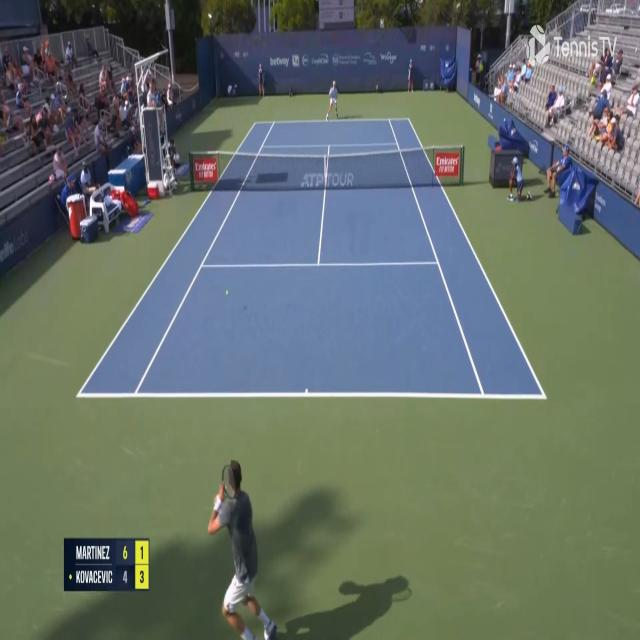tennis-player: (207, 454, 280, 639), (325, 78, 340, 122)
